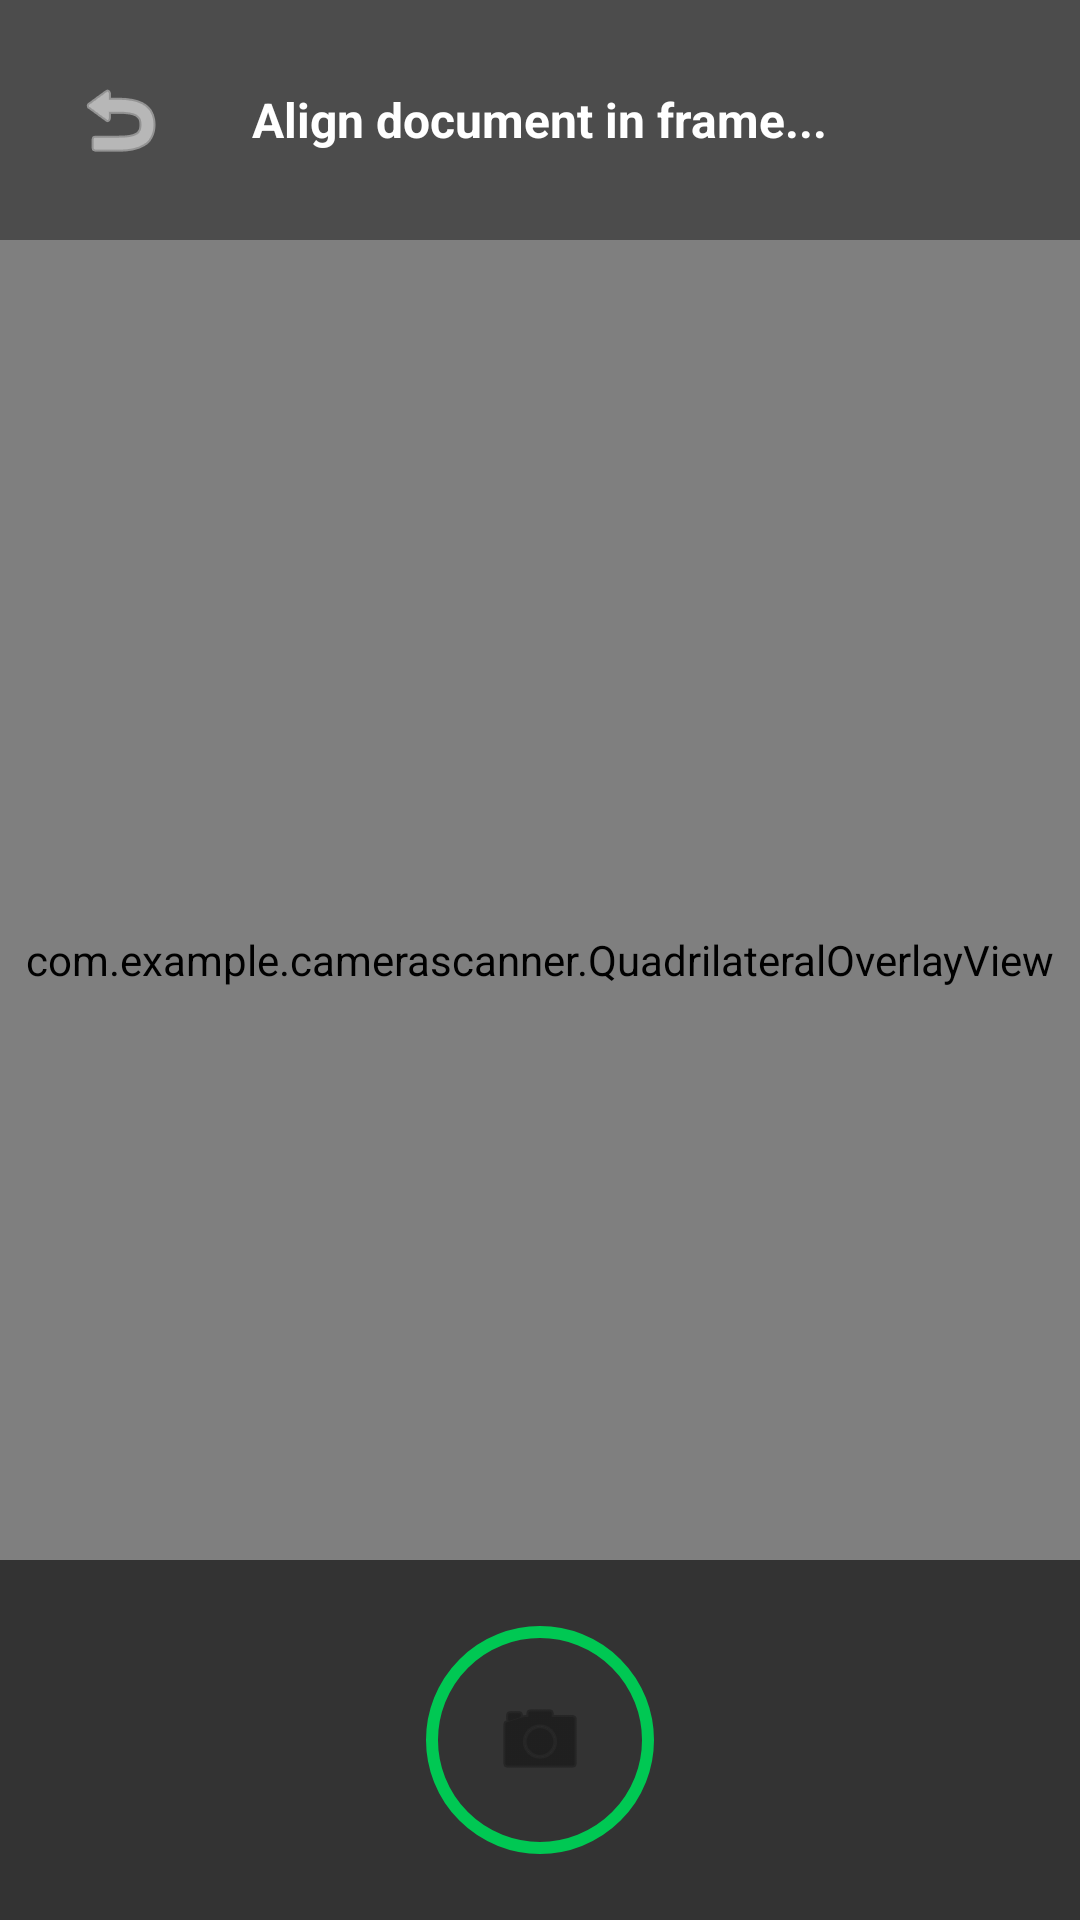

Locate icon controls on the screen. Image size 1080 x 1920, boxes as (x1, y1, x2, y2).
Back: (87, 89, 156, 152)
Capture: (450, 1650, 630, 1830)
